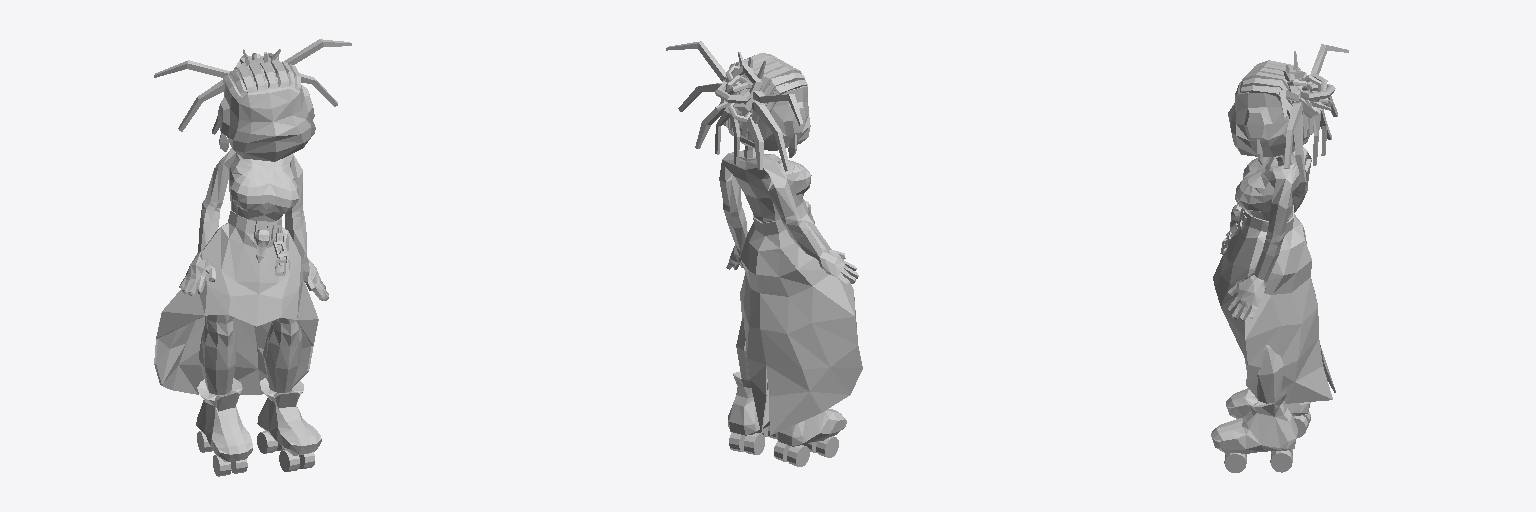
The model's file is bruja_000045.obj.
3 views of the same model, side by side, from view 1: azimuth 30°, elevation 25°; view 2: azimuth 150°, elevation 25°; view 3: azimuth 270°, elevation 25° (orthographic).
Parts seen in each view (by area): view 1: Bruja_Plane.001; view 2: Bruja_Plane.001; view 3: Bruja_Plane.001.
Part boxes in pixels (bbox=[...]): Bruja_Plane.001: bbox=[154, 39, 351, 476]; Bruja_Plane.001: bbox=[666, 41, 862, 466]; Bruja_Plane.001: bbox=[1211, 44, 1348, 472].
Bounding box in the file's own units: 8.37 × 16.42 × 5.1.